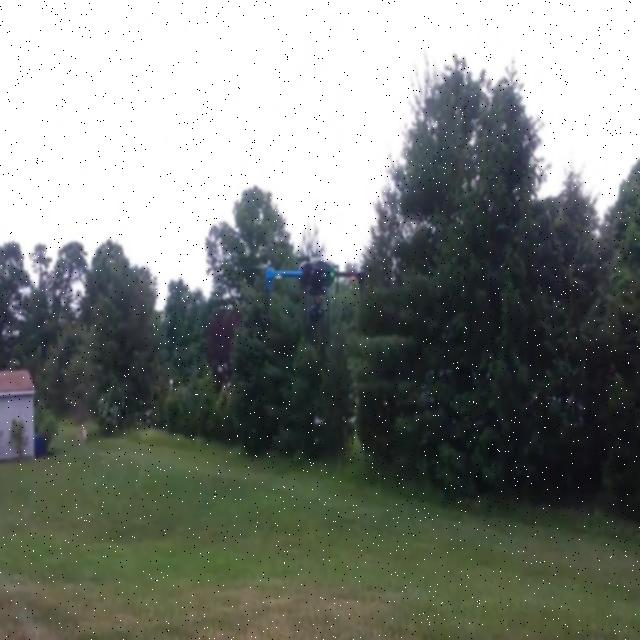UAV: (252, 257, 368, 323)
